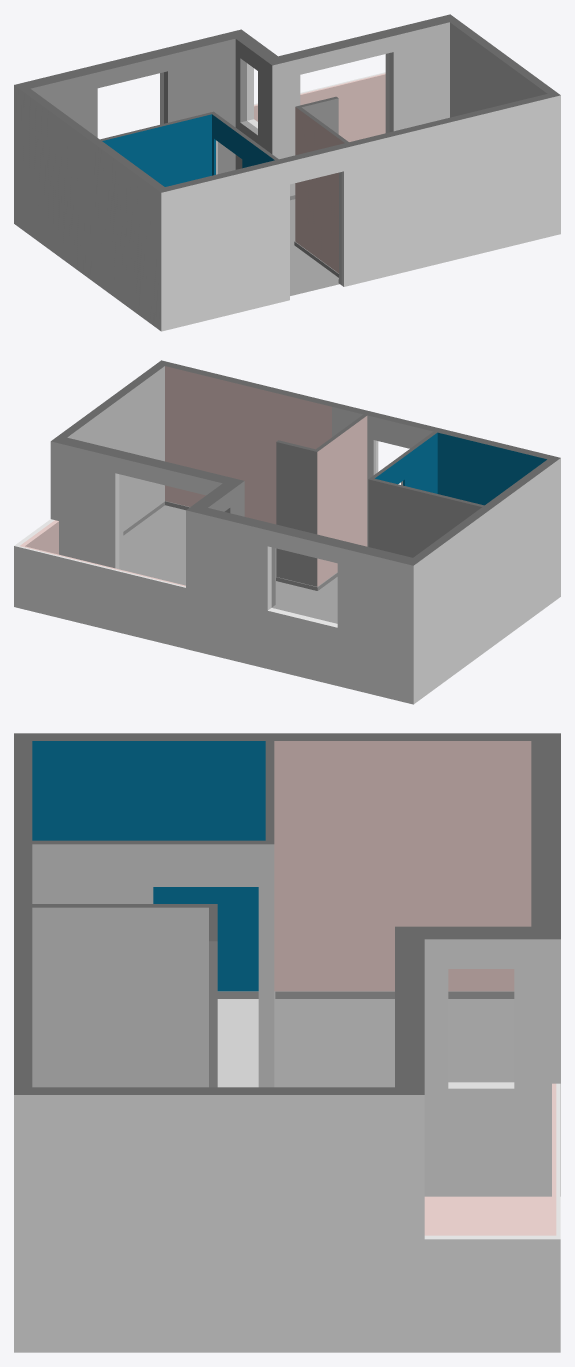
The model's file is asset_sh3d__scaled.glb.
The picture shows the model from 3 angles, top to bottom: view 1: azimuth 30°, elevation 25°; view 2: azimuth 150°, elevation 25°; view 3: azimuth 270°, elevation 25°; orthographic projection. The views are drawn at different scales.
Parts seen in each view (by area): view 1: 103, 96, 82, 20, 75, 6, 69, 41, 109, 27, 89, 55 (+14 smaller); view 2: 5, 104, 82, 54, 75, 19, 27, 41, 68, 97, 117, 48 (+16 smaller); view 3: 26, 83, 42, 76, 12, 35, 119, 60, 121, 113, 8, 7 (+17 smaller).
Part boxes in pixels (left/top/right/bottom): 103: left=385, top=95, right=560, bottom=276; 96: left=161, top=163, right=281, bottom=331; 82: left=14, top=85, right=92, bottom=280; 20: left=272, top=22, right=449, bottom=195; 75: left=92, top=142, right=161, bottom=330; 6: left=31, top=38, right=235, bottom=173; 69: left=102, top=114, right=211, bottom=186; 41: left=295, top=107, right=344, bottom=273; 109: left=352, top=138, right=385, bottom=284; 27: left=450, top=22, right=547, bottom=117; 89: left=282, top=146, right=351, bottom=301; 55: left=254, top=74, right=385, bottom=141; 5: left=186, top=510, right=413, bottom=704; 104: left=165, top=366, right=331, bottom=524; 82: left=413, top=508, right=491, bottom=703; 54: left=14, top=546, right=185, bottom=648; 75: left=492, top=458, right=560, bottom=646; 19: left=50, top=441, right=222, bottom=569; 27: left=67, top=366, right=164, bottom=530; 41: left=317, top=416, right=367, bottom=586; 68: left=368, top=479, right=481, bottom=557; 97: left=437, top=432, right=546, bottom=505; 117: left=123, top=505, right=316, bottom=608; 48: left=276, top=442, right=317, bottom=586; 26: left=14, top=1095, right=424, bottom=1352; 83: left=274, top=741, right=531, bottom=991; 42: left=32, top=907, right=208, bottom=1087; 76: left=32, top=741, right=265, bottom=991; 12: left=424, top=939, right=560, bottom=1196; 35: left=32, top=844, right=274, bottom=1087; 119: left=275, top=999, right=514, bottom=1087; 60: left=424, top=1239, right=560, bottom=1352; 121: left=424, top=1196, right=551, bottom=1231; 113: left=217, top=999, right=258, bottom=1087; 8: left=531, top=737, right=546, bottom=932; 7: left=546, top=733, right=560, bottom=938.
Size of what is drawn, in the model's own units: 7.53 by 2.5 by 4.81.
